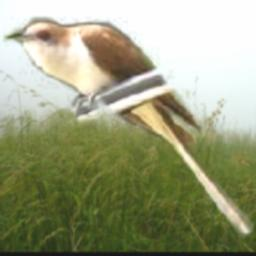Cuckoo: (3, 18, 254, 239)
